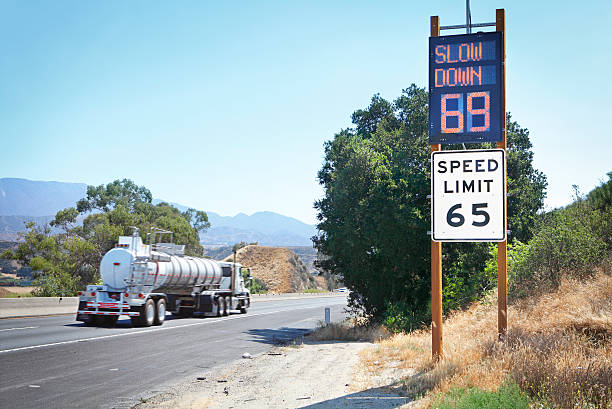SpeedLimitSign: (429, 148, 506, 241)
